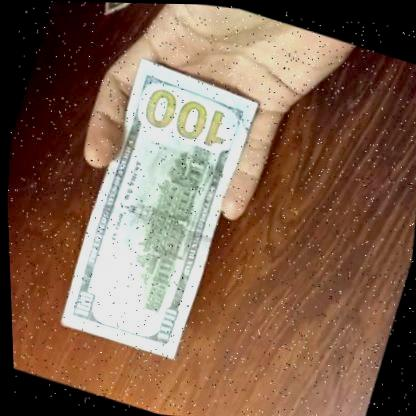one_hundred-back: (43, 44, 277, 374)
